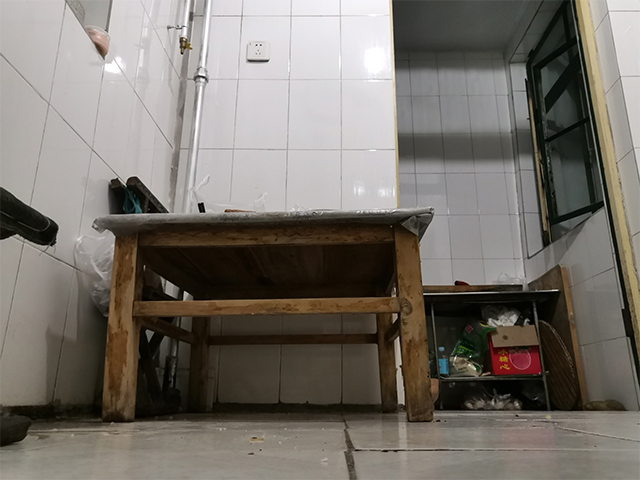table: (90, 205, 439, 425)
